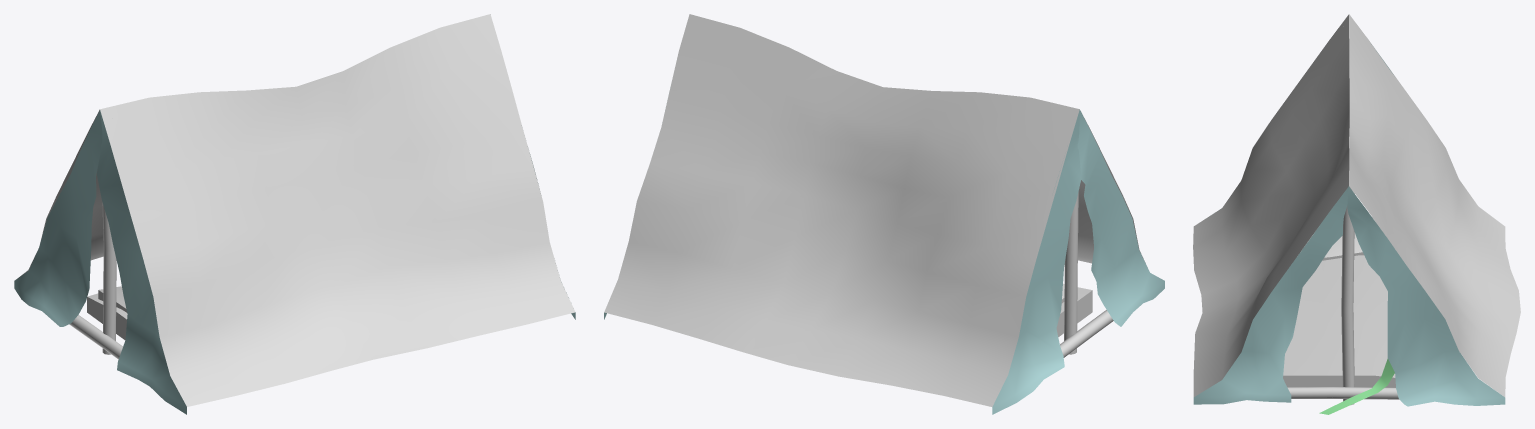
The model's file is Tent1.fbx.
3 renders of one model, left to right at view 1: azimuth 30°, elevation 25°; view 2: azimuth 150°, elevation 25°; view 3: azimuth 270°, elevation 25°, orthographic. The views are drawn at different scales.
Parts seen in each view (by area): view 1: Plane.033, Plane.040, Cylinder.151, Cylinder.153, Plane.041; view 2: Plane.033, Plane.040, Cylinder.151, Cylinder.153, Plane.041; view 3: Plane.033, Plane.040, Plane.041, Cylinder.144, Cylinder.152, Plane.035.
Part boxes in pixels (<box>): Plane.033: <box>18,14,575,406</box>; Plane.040: <box>14,110,575,414</box>; Cylinder.151: <box>102,202,116,354</box>; Cylinder.153: <box>69,315,122,359</box>; Plane.041: <box>87,293,127,339</box>; Plane.033: <box>604,14,1145,406</box>; Plane.040: <box>604,109,1164,414</box>; Cylinder.151: <box>1064,192,1078,354</box>; Cylinder.153: <box>1060,310,1113,357</box>; Plane.041: <box>1056,287,1092,336</box>; Plane.033: <box>1193,14,1520,397</box>; Plane.040: <box>1193,44,1505,414</box>; Plane.041: <box>1283,255,1395,387</box>; Cylinder.144: <box>1341,190,1354,404</box>; Cylinder.152: <box>1287,387,1399,399</box>; Plane.035: <box>1304,225,1378,260</box>.
Bounding box in the file's own units: 268 × 142 × 191.
